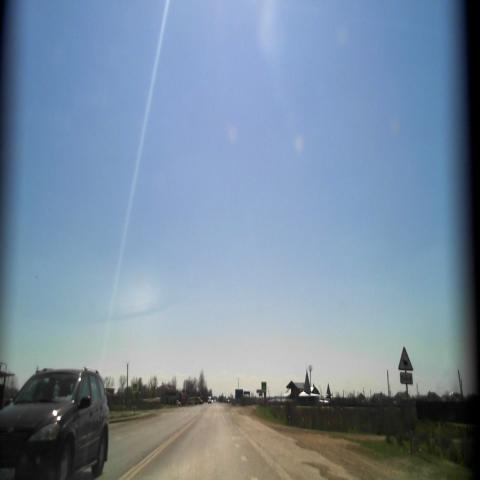1_26: (398, 345, 414, 373)
